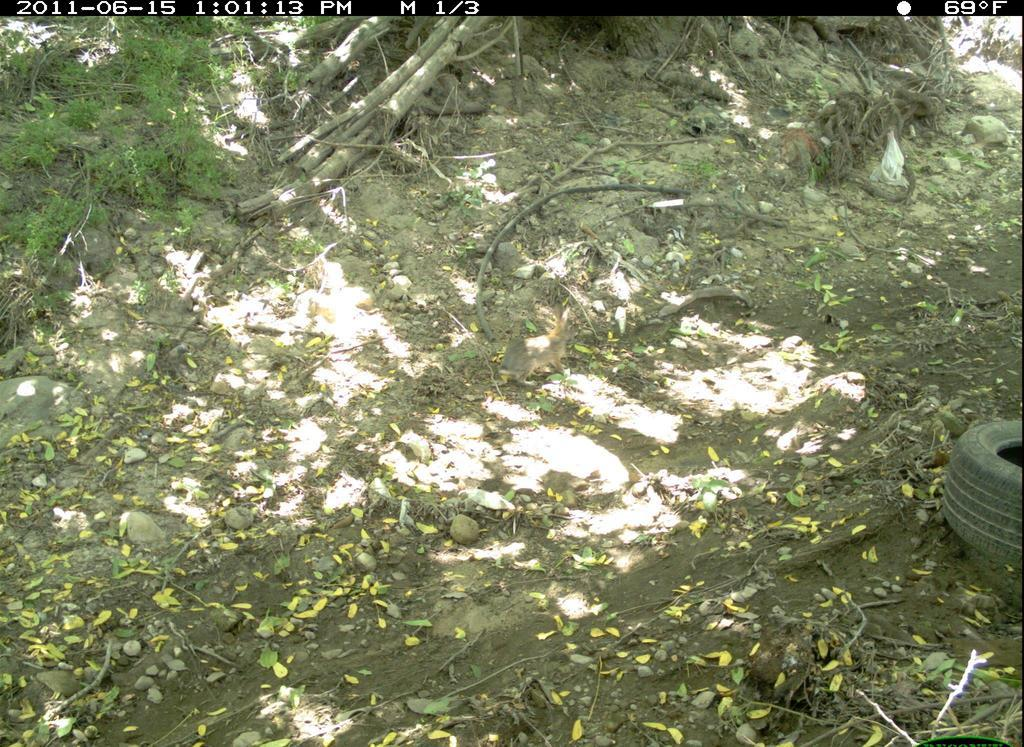rabbit: (498, 308, 585, 392)
